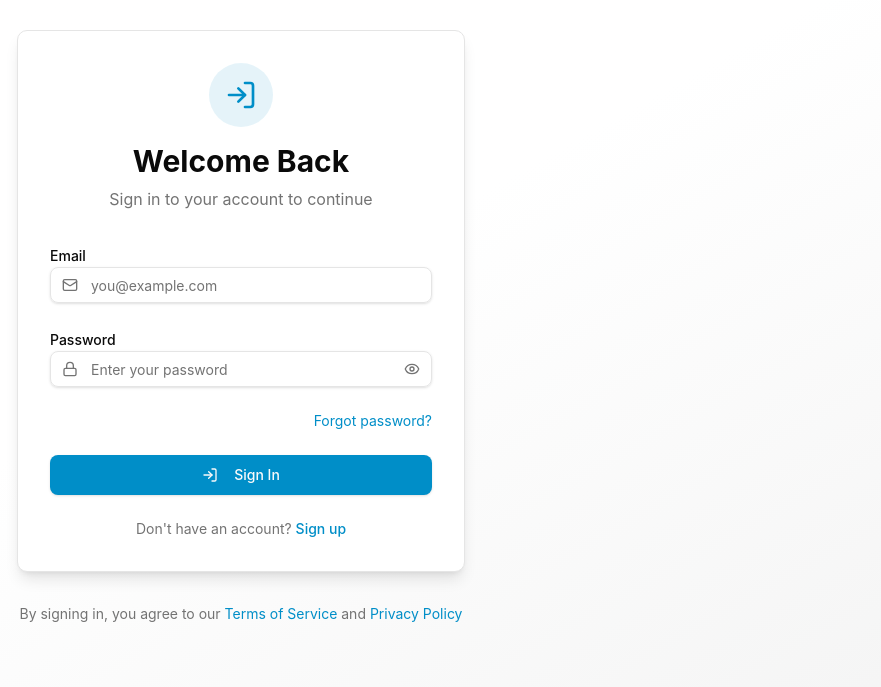
Login Page › should display validation error for short password
Type "test@example.com" into the field with placeholder "you@example.com". click: (241, 285)
box: [50,267,432,303]
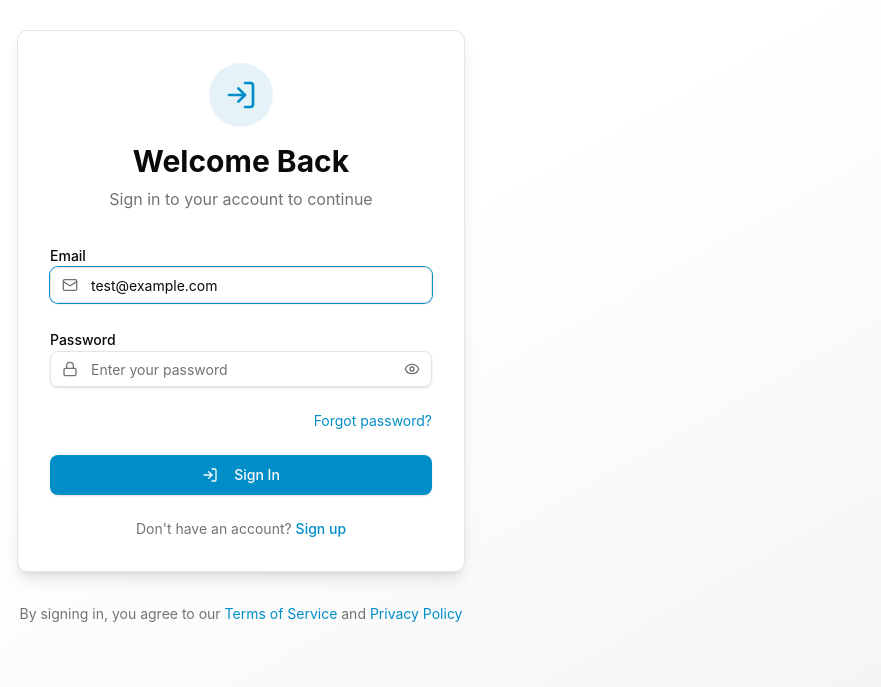
Type "short" into the password field with placeholder "Enter your password". click: (241, 369)
box: [50,351,432,387]
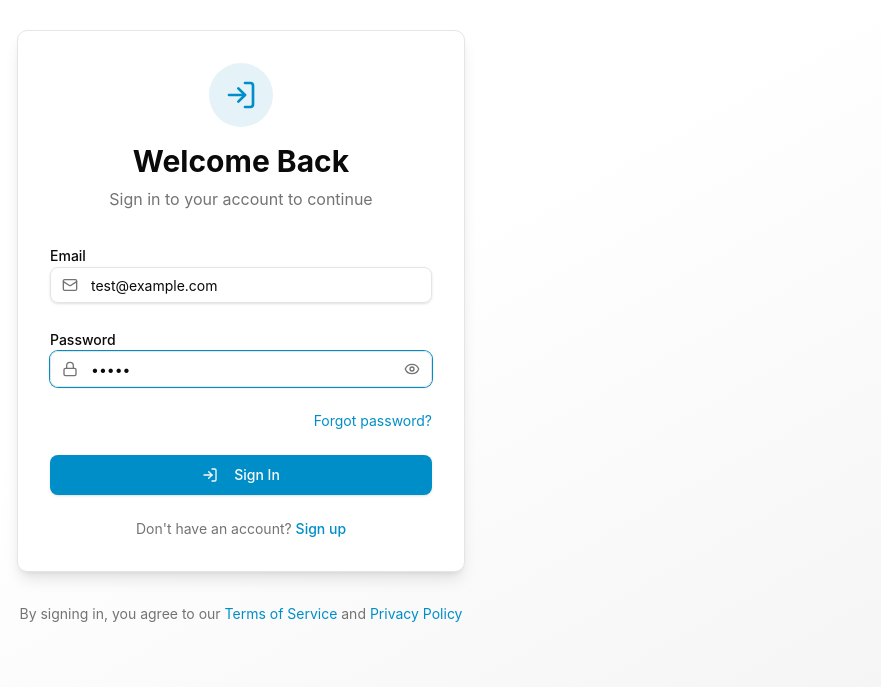
Click the button "Sign In". click: (241, 475)
box: [50,455,432,495]
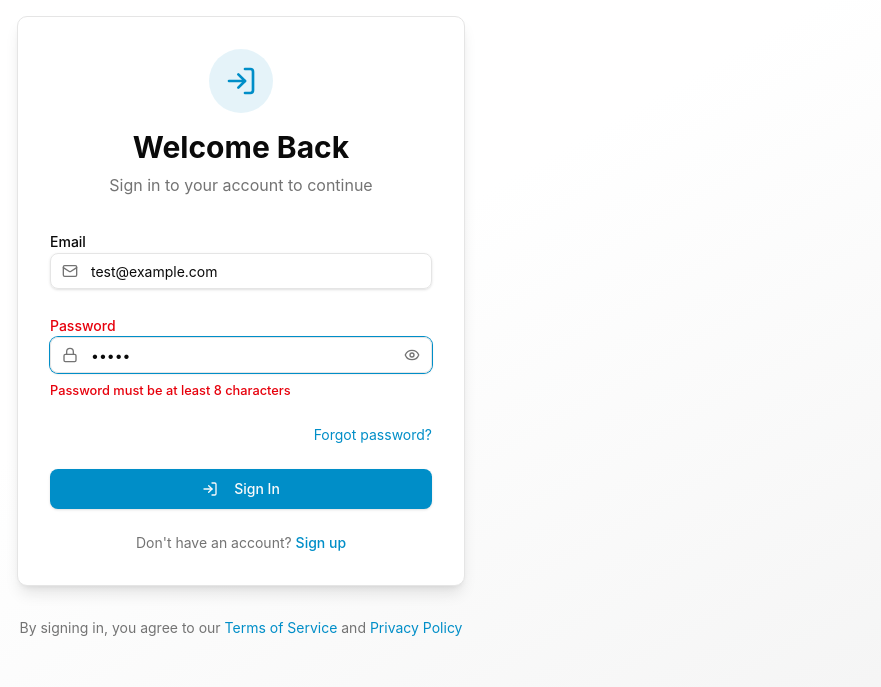
Expected: the text "Password must be at least 8 characters" is shown, [50,383,291,398]
